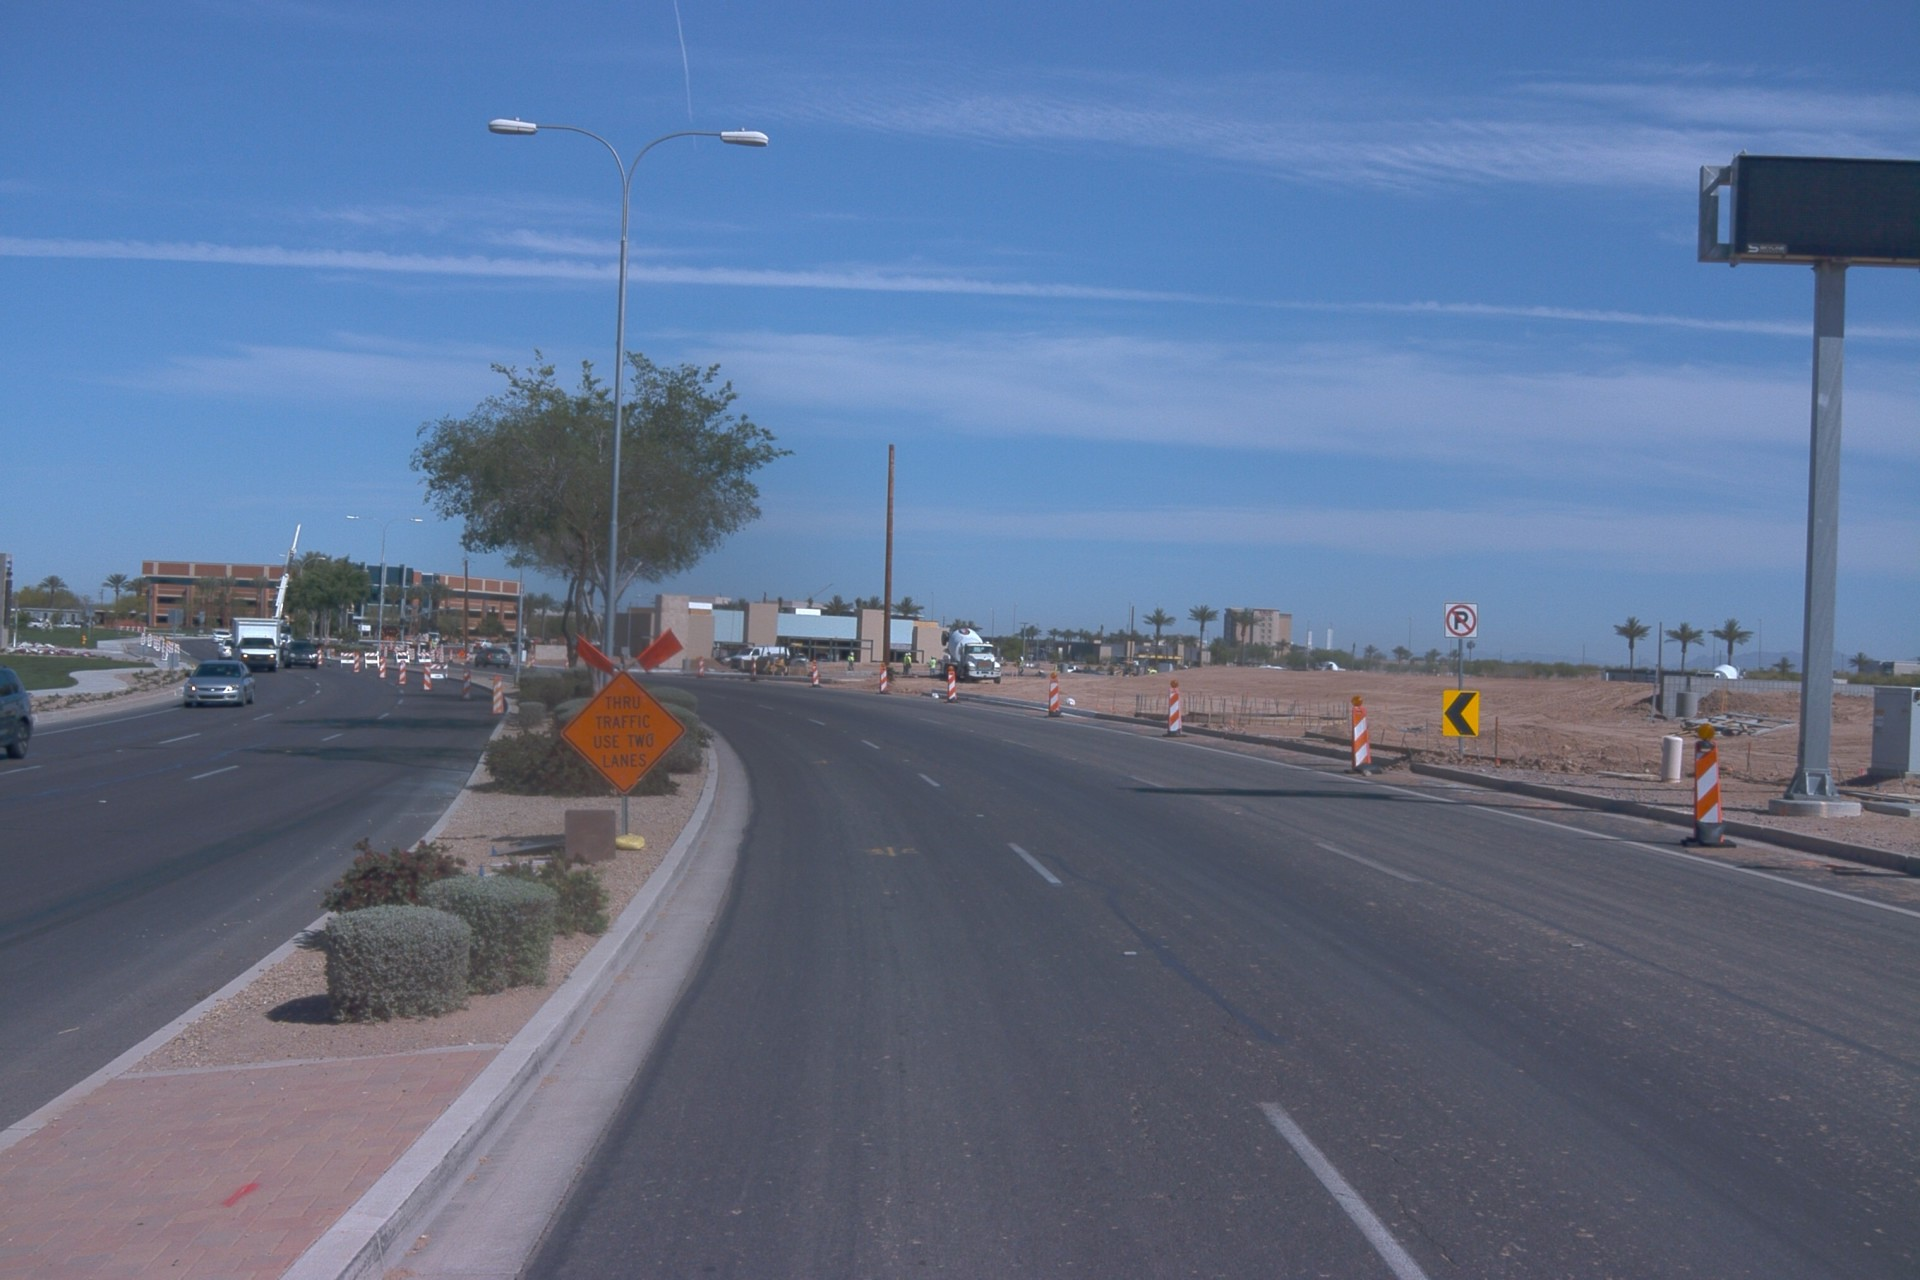TYPE_PEDESTRIAN: (904, 652, 913, 679), (925, 656, 936, 678), (1015, 660, 1025, 681), (847, 650, 855, 671), (902, 653, 908, 676)
TYPE_VEHICLE: (229, 522, 309, 681), (182, 661, 259, 712), (224, 617, 281, 671), (0, 668, 33, 760), (1694, 658, 1747, 682), (729, 643, 794, 661), (285, 640, 324, 669), (472, 647, 511, 668), (1109, 657, 1147, 677), (715, 650, 743, 669), (219, 638, 237, 663), (1258, 663, 1291, 675), (216, 632, 235, 647), (22, 620, 51, 629), (795, 652, 809, 664), (280, 637, 296, 647), (1066, 664, 1079, 675), (941, 654, 951, 666), (909, 657, 920, 665), (867, 659, 882, 664)
